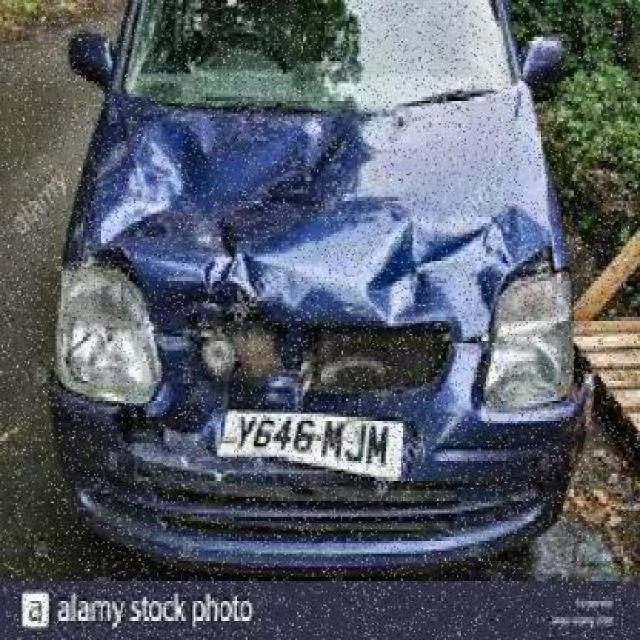bonnet-dent: (46, 106, 574, 336)
front-bumper-dent: (411, 366, 602, 566), (49, 343, 206, 560)
